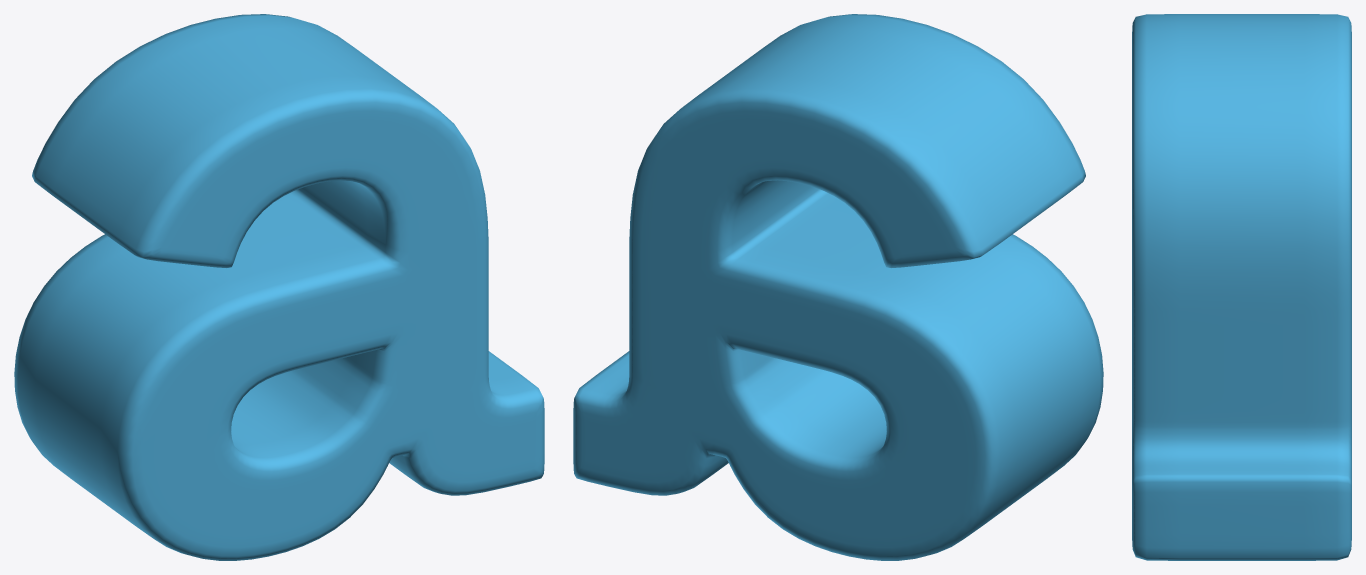
Rendered from A-D_oCMxPV.glb.
3 renders of one model, left to right at view 1: azimuth 30°, elevation 25°; view 2: azimuth 150°, elevation 25°; view 3: azimuth 270°, elevation 25°, orthographic. The views are drawn at different scales.
Visible parts, largest first — view 1: a.002; view 2: a.002; view 3: a.002.
Boxes of the visible parts, x1,y1,x2,y2 form: a.002: [14, 14, 544, 560]; a.002: [573, 14, 1103, 560]; a.002: [1132, 14, 1351, 560].
Bounding box in the file's own units: 0.8524 × 0.8597 × 0.4.
